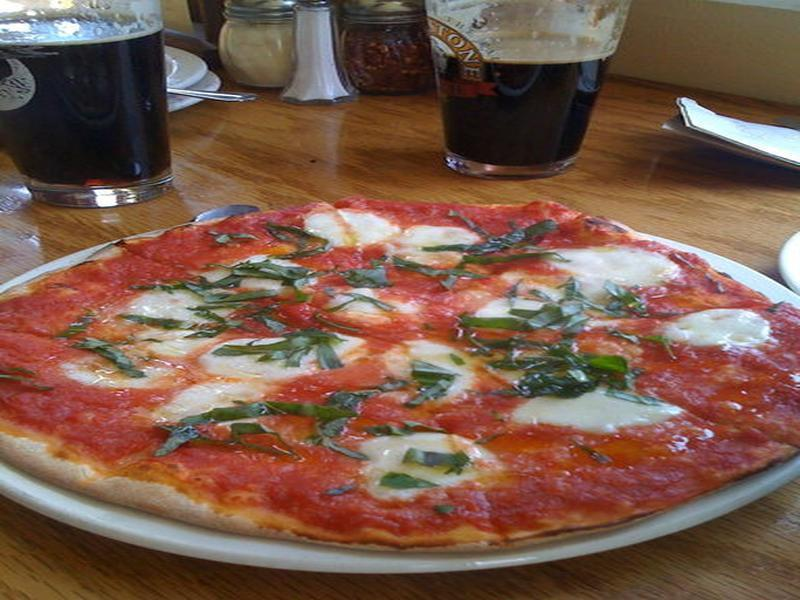pizza: (5, 195, 800, 587)
